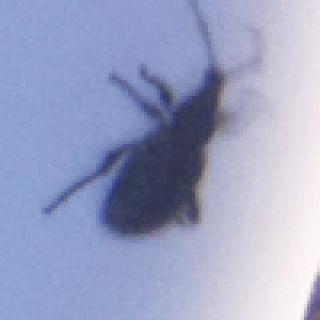bvw: (40, 0, 266, 236)
